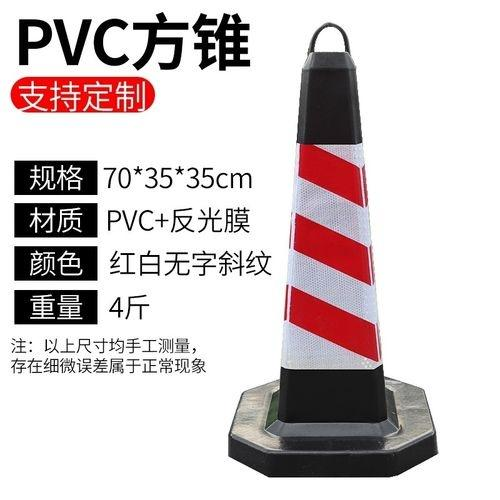cone_barrel: (252, 37, 413, 458)
